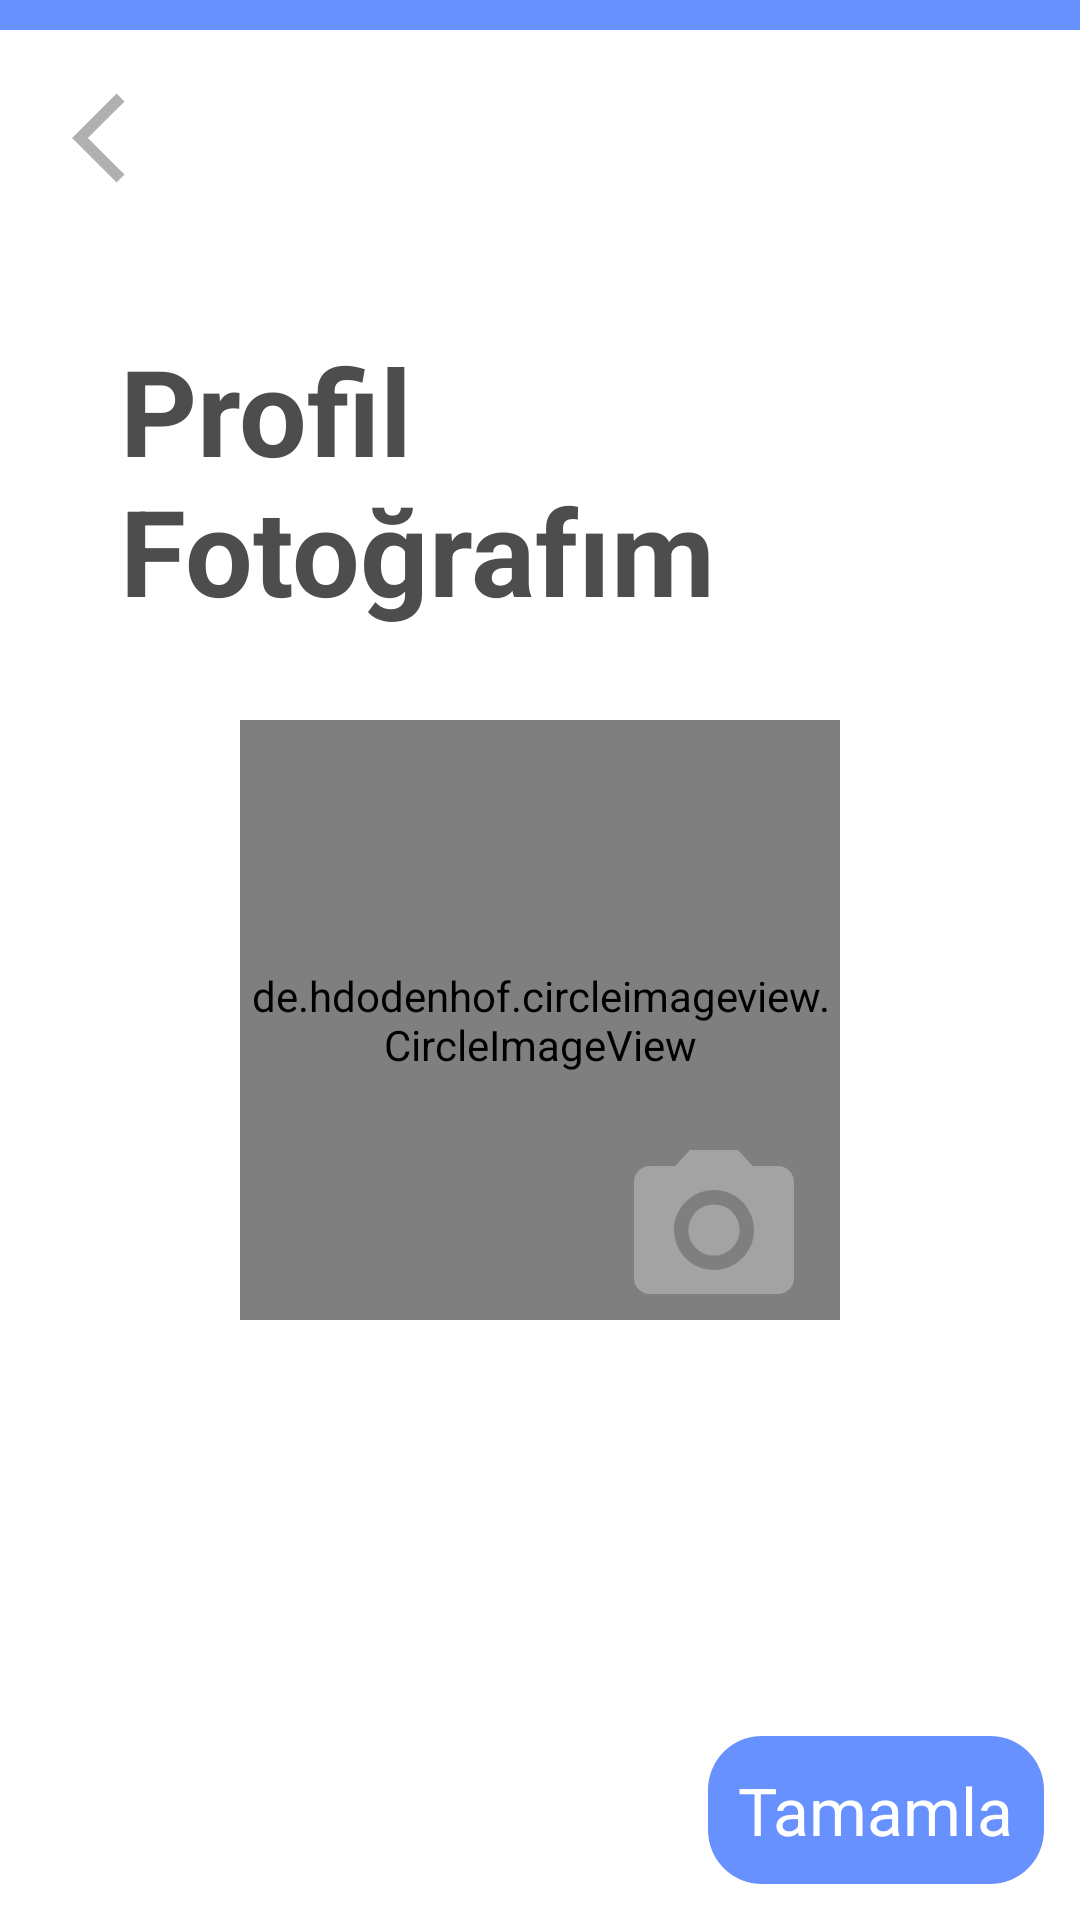

Named icons in this screenshot (1080px x 1920px) and their centers, (x=x, y=y):
arrow back: (x=98, y=138)
camera: (x=714, y=1222)
